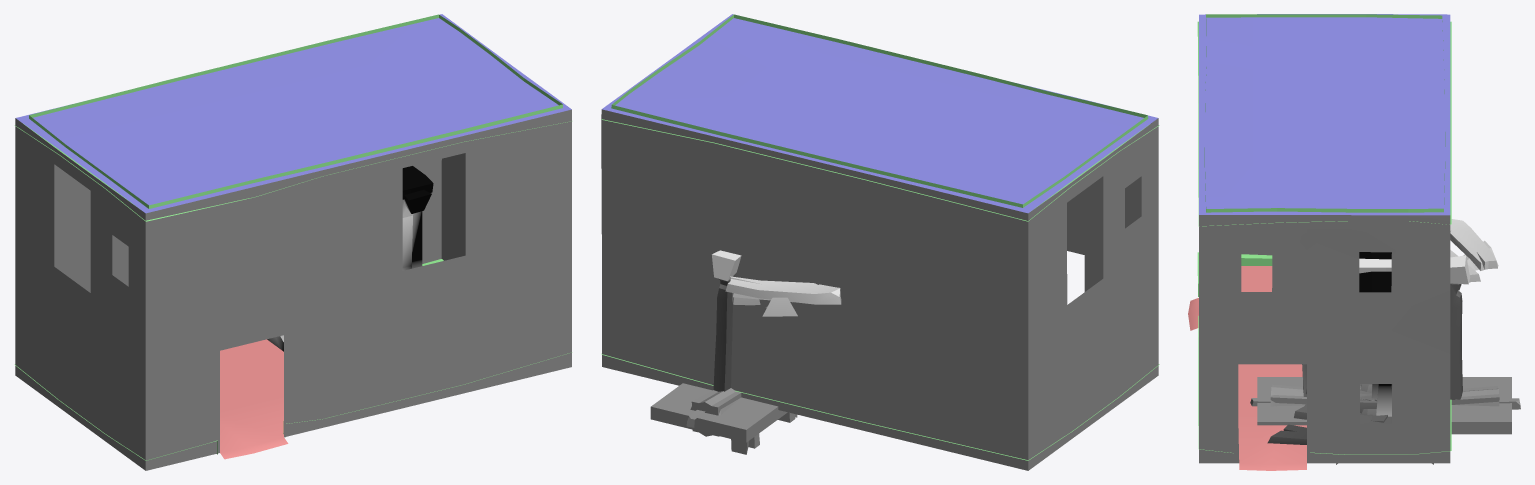
The picture shows the model from 3 angles, left to right: view 1: azimuth 30°, elevation 25°; view 2: azimuth 150°, elevation 25°; view 3: azimuth 270°, elevation 25°; orthographic projection. The views are drawn at different scales.
Parts seen in each view (by area): view 1: SM_HouseIntInner_A, SM_HouseWallPlaceable; view 2: SM_HouseIntInner_A, SM_WoodPlatoo, SM_RoundStair, SM_WoodArc03, SM_Wood05_Long; view 3: SM_HouseIntInner_A, SM_WoodPlatoo, SM_RoundStair, SM_WoodArc03, SM_HouseWallPlaceable, SM_Wood05_Long, SM_Wood05_LongRound, SM_StraightStairSimple.
Boxes of the visible parts, bbox=[...] form: SM_HouseIntInner_A: bbox=[14, 14, 572, 470]; SM_HouseWallPlaceable: bbox=[267, 166, 433, 351]; SM_HouseIntInner_A: bbox=[601, 14, 1159, 470]; SM_WoodPlatoo: bbox=[650, 383, 787, 442]; SM_RoundStair: bbox=[725, 276, 841, 316]; SM_WoodArc03: bbox=[711, 250, 741, 391]; SM_Wood05_Long: bbox=[691, 390, 741, 436]; SM_HouseIntInner_A: bbox=[1188, 14, 1451, 470]; SM_WoodPlatoo: bbox=[1257, 377, 1511, 434]; SM_RoundStair: bbox=[1267, 219, 1498, 444]; SM_WoodArc03: bbox=[1302, 255, 1470, 399]; SM_HouseWallPlaceable: bbox=[1359, 252, 1392, 416]; SM_Wood05_Long: bbox=[1270, 384, 1499, 404]; SM_Wood05_LongRound: bbox=[1270, 387, 1499, 406]; SM_StraightStairSimple: bbox=[1360, 384, 1391, 423].
Size of the model in its own units: 1214 by 856 by 832.
